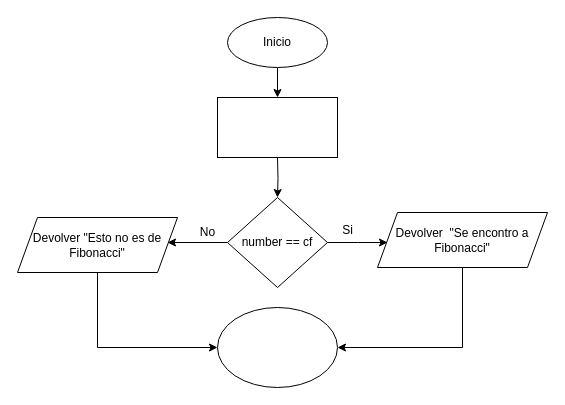
Image size: 565x405. Some labels were removed from this diagram. The shapes that lost their labels are listed below. From the top down, each one's centre as x and y in pixels, then its label:
the point at 277,127: Crear variable cf y darle un valor de 11235813
the point at 277,347: Fin
